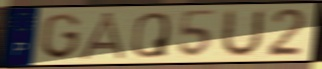2: (267, 8, 308, 58)
5: (176, 8, 219, 60)
A: (76, 10, 130, 61)
G: (39, 12, 82, 61)
Q: (130, 11, 171, 60)
U: (218, 7, 267, 59)
